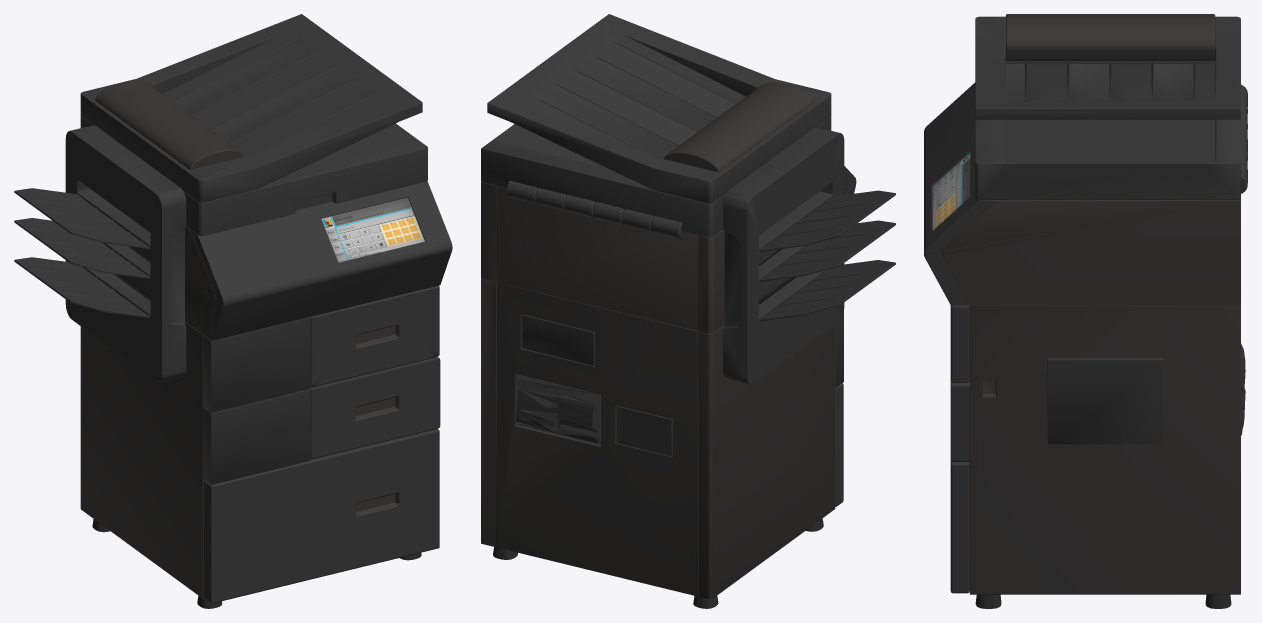
File: Office_Printer.fbx
The picture shows the model from 3 angles, left to right: view 1: azimuth 30°, elevation 25°; view 2: azimuth 150°, elevation 25°; view 3: azimuth 270°, elevation 25°; orthographic projection. The views are drawn at different scales.
Parts seen in each view (by area): view 1: Printer Body, Printer Drawer 3, Printer_Trays, Printer Drawer 2, Printer Drawer 1, Printer_Top, Printer_Screen; view 2: Printer Body, Printer_Trays, Printer_Top, Printer Detail, Printer_TopHinge, Printer Drawer 3, Printer_Feet; view 3: Printer Body, Printer_Top, Printer Drawer 3, Printer_Screen, Printer Drawer 1, Printer Drawer 2, Printer_Feet, Printer_TopHinge, Printer_Details 2.
Part boxes in pixels (box(x1,y1,x2,y2)): Printer Body: box(65, 14, 452, 598); Printer Drawer 3: box(203, 429, 439, 603); Printer_Trays: box(14, 188, 149, 318); Printer Drawer 2: box(310, 357, 440, 459); Printer Drawer 1: box(310, 285, 439, 387); Printer_Top: box(95, 80, 244, 169); Printer_Screen: box(321, 197, 424, 262); Printer Body: box(481, 14, 856, 598); Printer_Trays: box(759, 190, 895, 321); Printer_Top: box(664, 82, 814, 172); Printer Detail: box(515, 374, 600, 445); Printer_TopHinge: box(506, 181, 681, 239); Printer Drawer 3: box(835, 383, 843, 506); Printer_Feet: box(493, 518, 823, 608); Printer Body: box(924, 16, 1240, 594); Printer_Top: box(1006, 14, 1215, 53); Printer Drawer 3: box(950, 393, 969, 593); Printer_Screen: box(933, 152, 970, 230); Printer Drawer 1: box(950, 305, 969, 382); Printer Drawer 2: box(951, 380, 969, 461); Printer_Feet: box(975, 594, 1231, 608); Printer_TopHinge: box(1241, 84, 1247, 193); Printer_Details 2: box(1005, 61, 1215, 63).
Size of the model in its own units: 1.1 by 1.46 by 0.8582.
